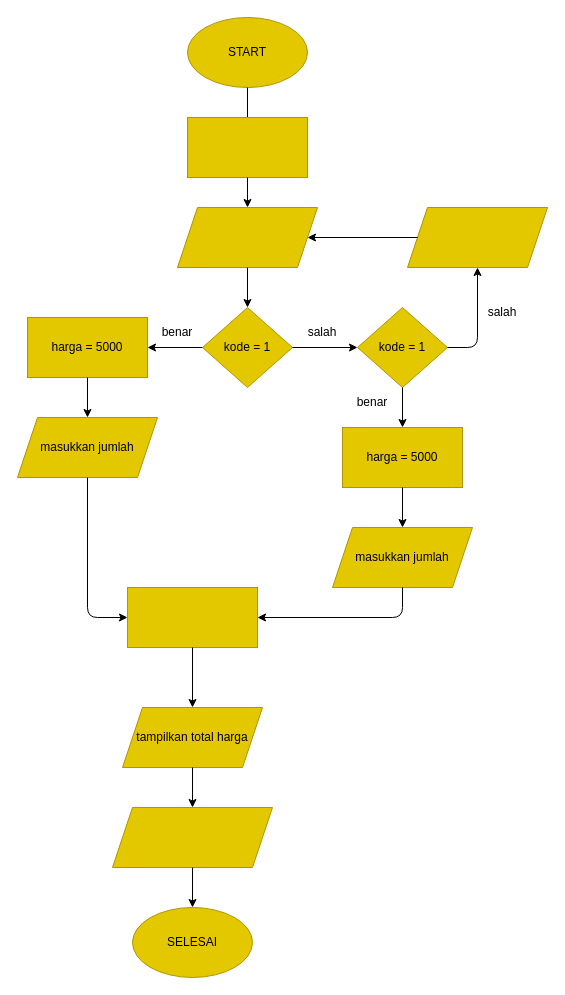
The diagram is 565 pixels wide and 995 high, and some of its shapes have lost their labels. Each missing label, with the centre of its shape:
"kode yang anda masukkan salah" belongs at (x=477, y=237).
"lanjutkan ke pembayaran" belongs at (x=192, y=837).
"masukan kode menu" belongs at (x=247, y=237).
"pilih minuman" belongs at (x=247, y=147).
"total = harga * jumlah" belongs at (x=192, y=617).
